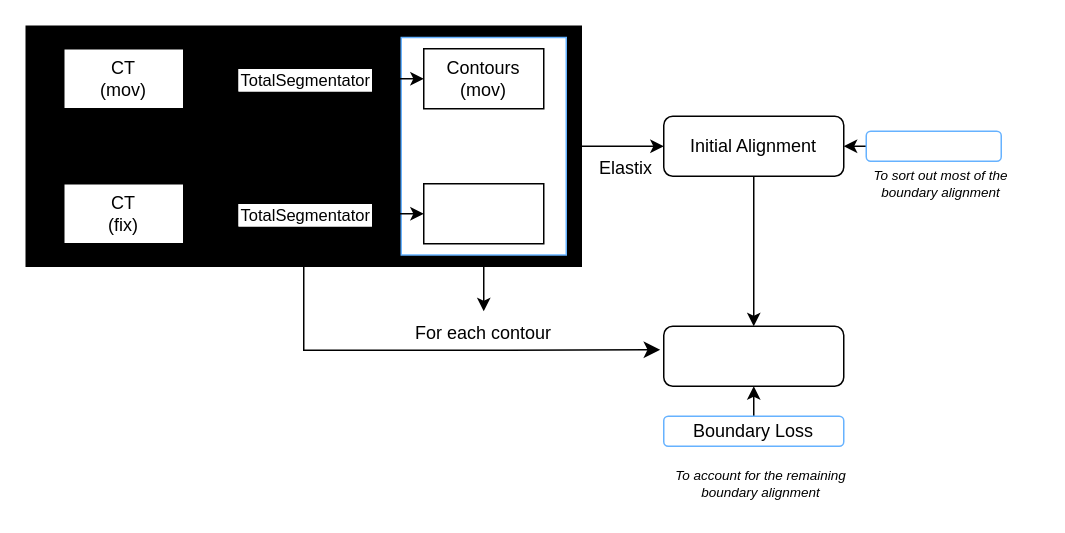
This 1065x533 diagram has some shape labels left out. The centre of each missing label's shape, as x and y in pixels:
Contours (fix): the point at 483,213
GraphRegNet: the point at 753,355
Kappa Metric: the point at 933,145
